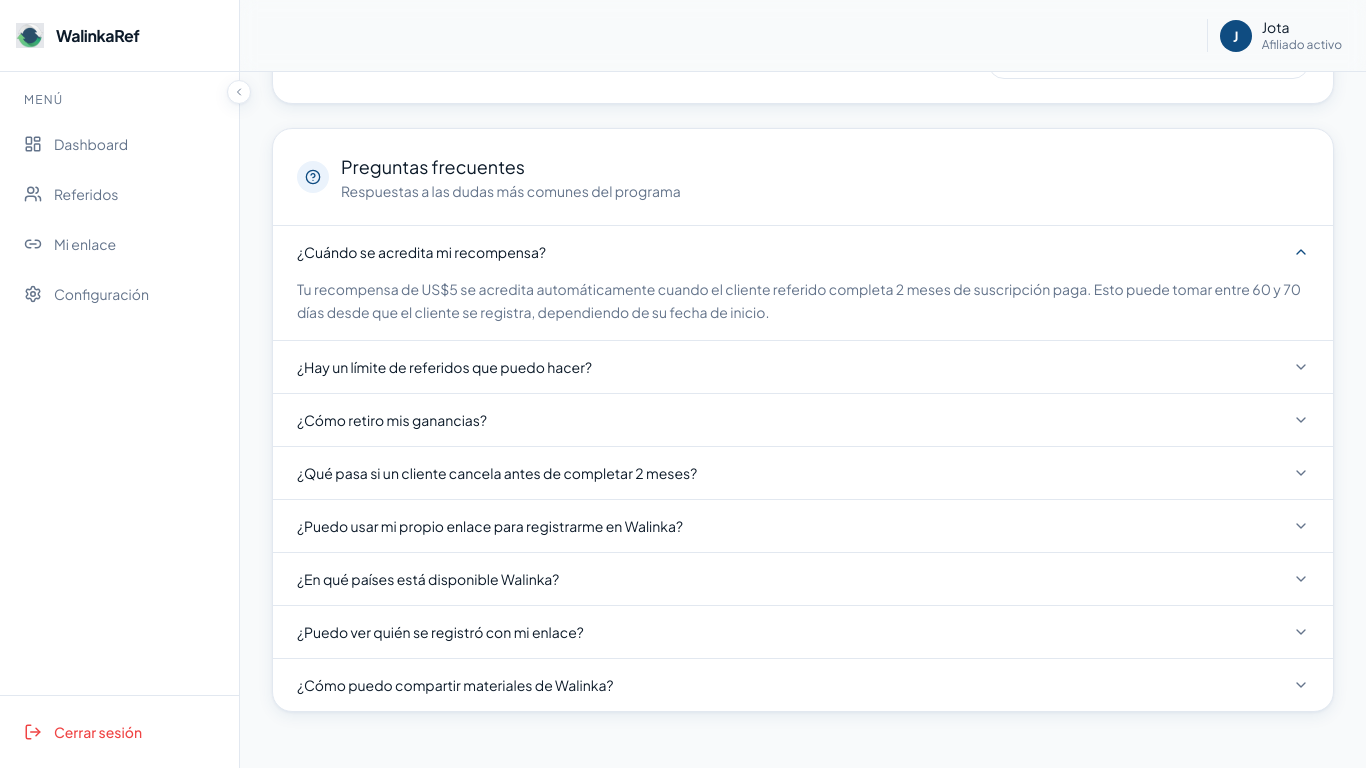
Test: AffiliateResourcesPage (integración) › la página sigue renderizando aunque Recursos ya no se anuncie en el sidebar
(page scrolled)
Click the button "¿Cómo retiro mis ganancias?".
click(392, 420)  # box [273, 394, 1333, 446]
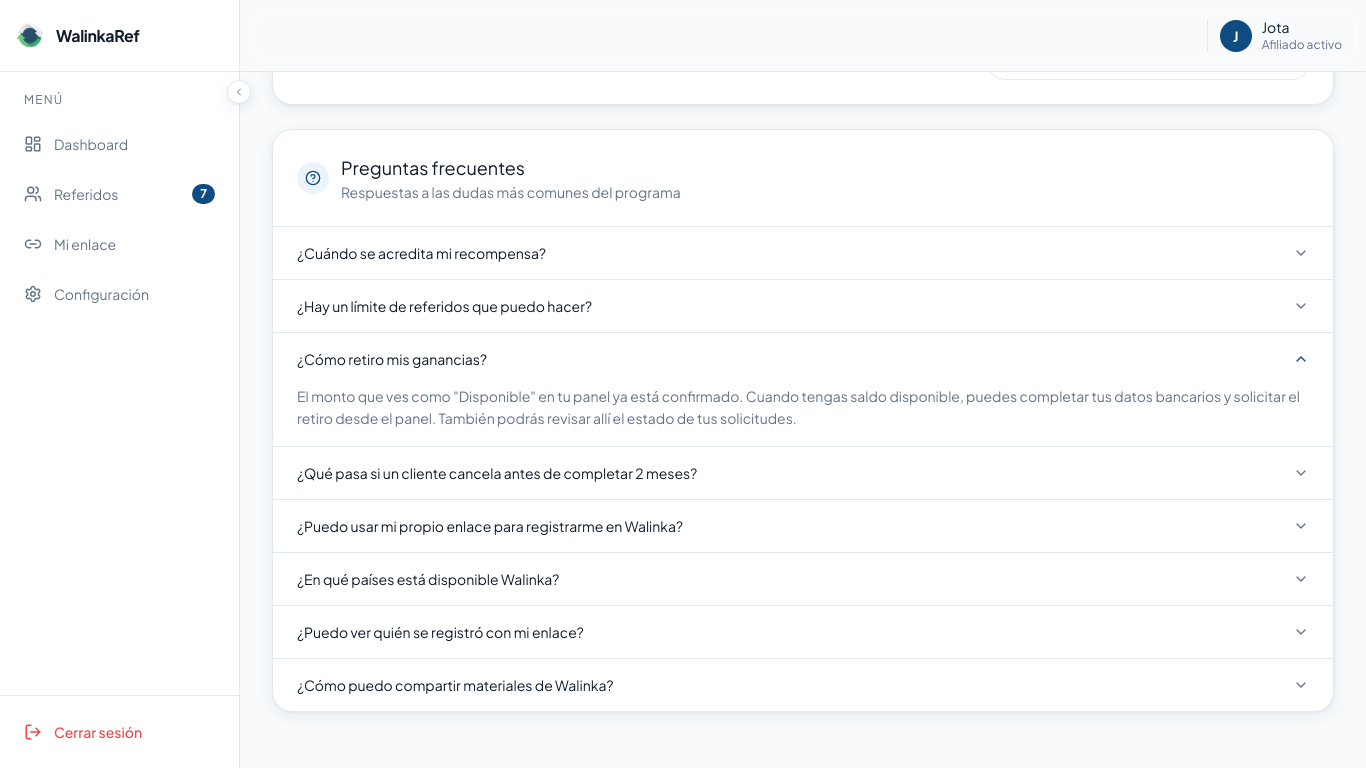
Expected: the text "puedes completar tus datos bancarios y solicitar el retiro" is shown, [297, 387, 1300, 428]
